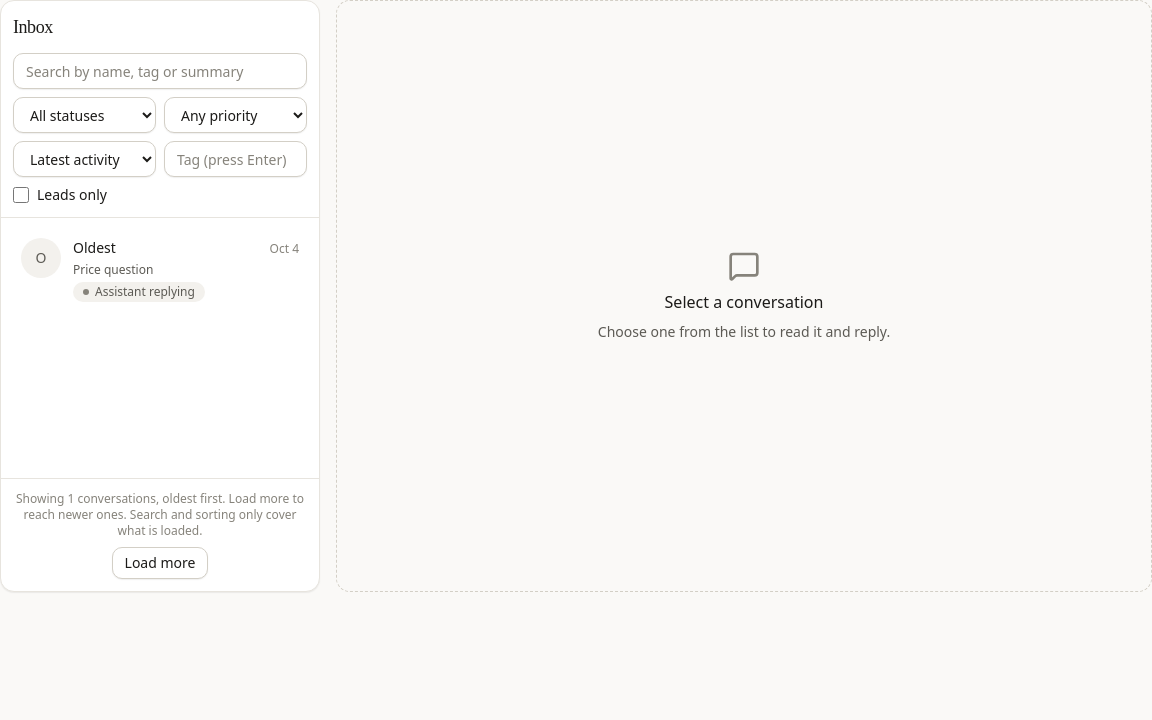
Test: conversation list › paging (the API lists oldest first) › says the list is oldest first and loads newer conversations on request
The image size is (1152, 720).
Expected: the text "Oldest" is shown, [73,238,116,258]
Expected: the text "Showing 1 conversations, oldest first" is shown, [13,491,307,539]
Click the button "Load more": (160, 563) [112,547,208,579]
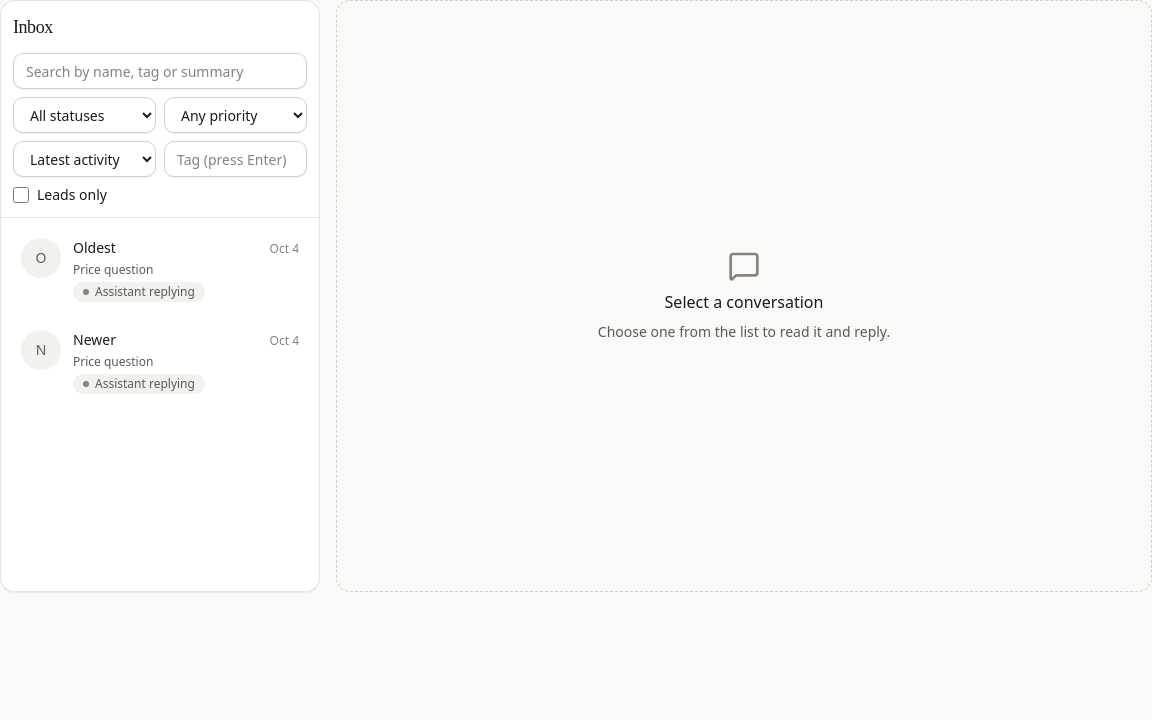
Expected: the text "Newer" is shown, [73,330,116,350]
Now the text "Load more" is gone
